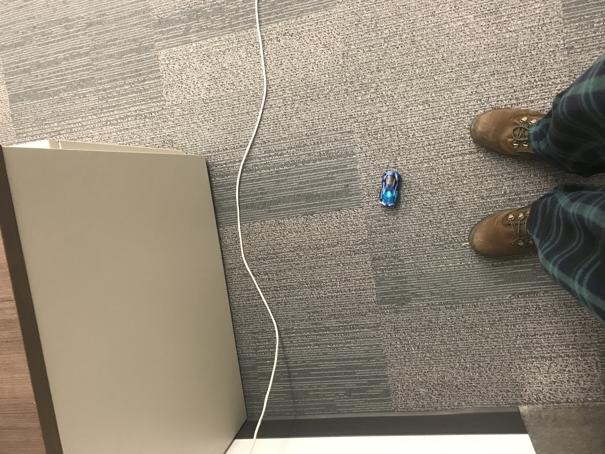Shock: (378, 169, 404, 210)
